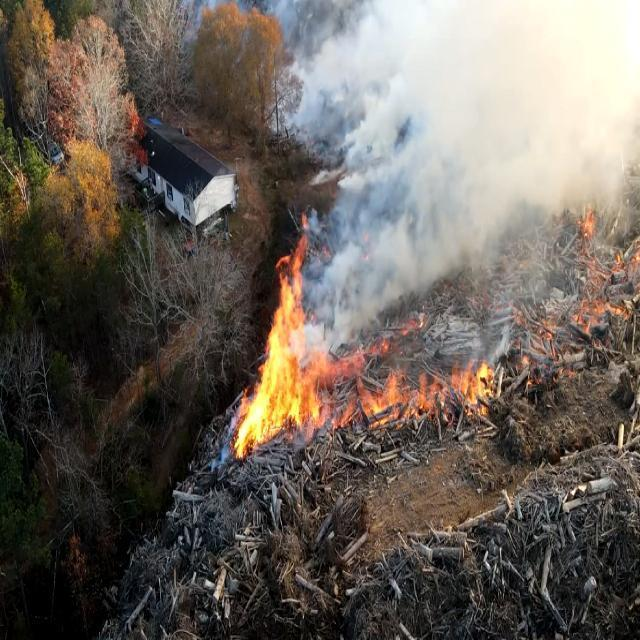Fire: (234, 252, 346, 445), (369, 348, 502, 416)
Smoke: (279, 8, 640, 358)
